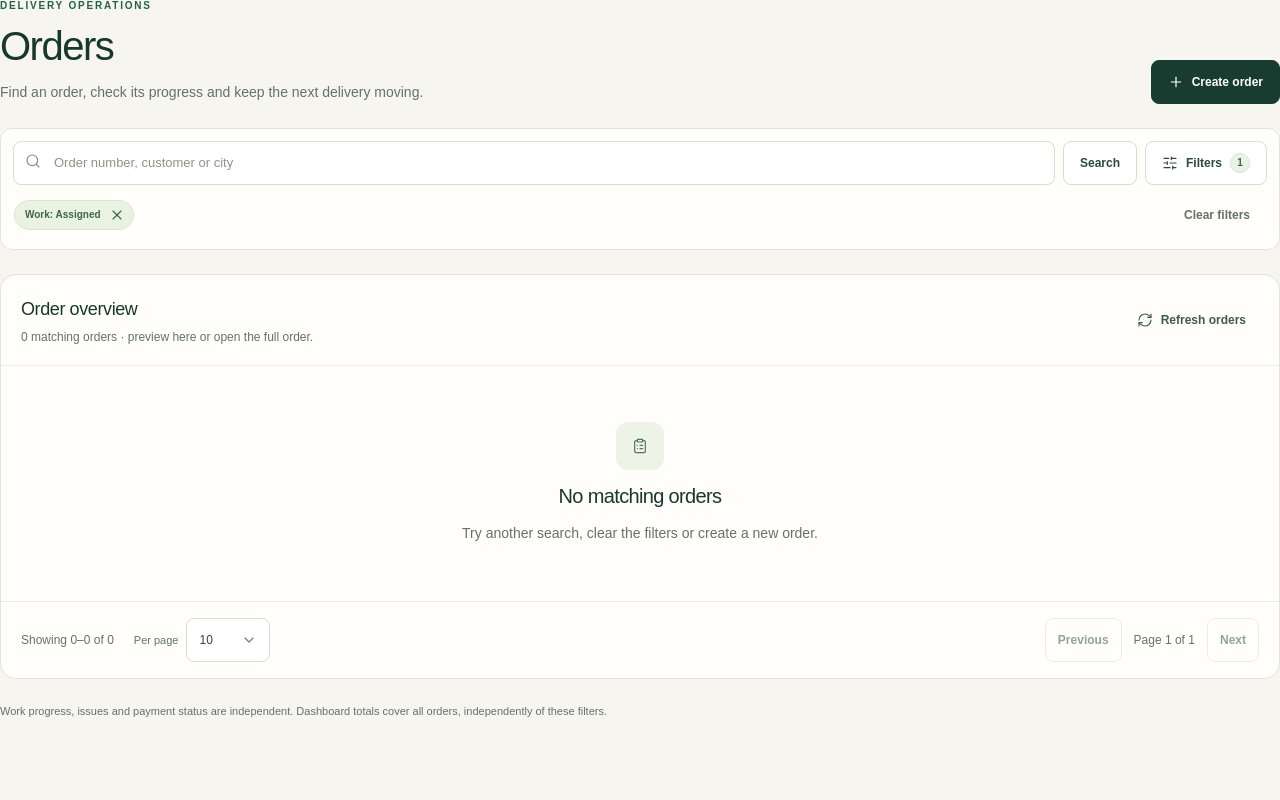
it: M3 order resources › uses the dashboard planning filter on its initial server request
The image size is (1280, 800).
Expected: the heading "No matching orders" is shown, x1=559 y1=482 x2=721 y2=510
Step 1. Click the button "Filters 1" → click(1206, 163), box x1=1145 y1=141 x2=1267 y2=185
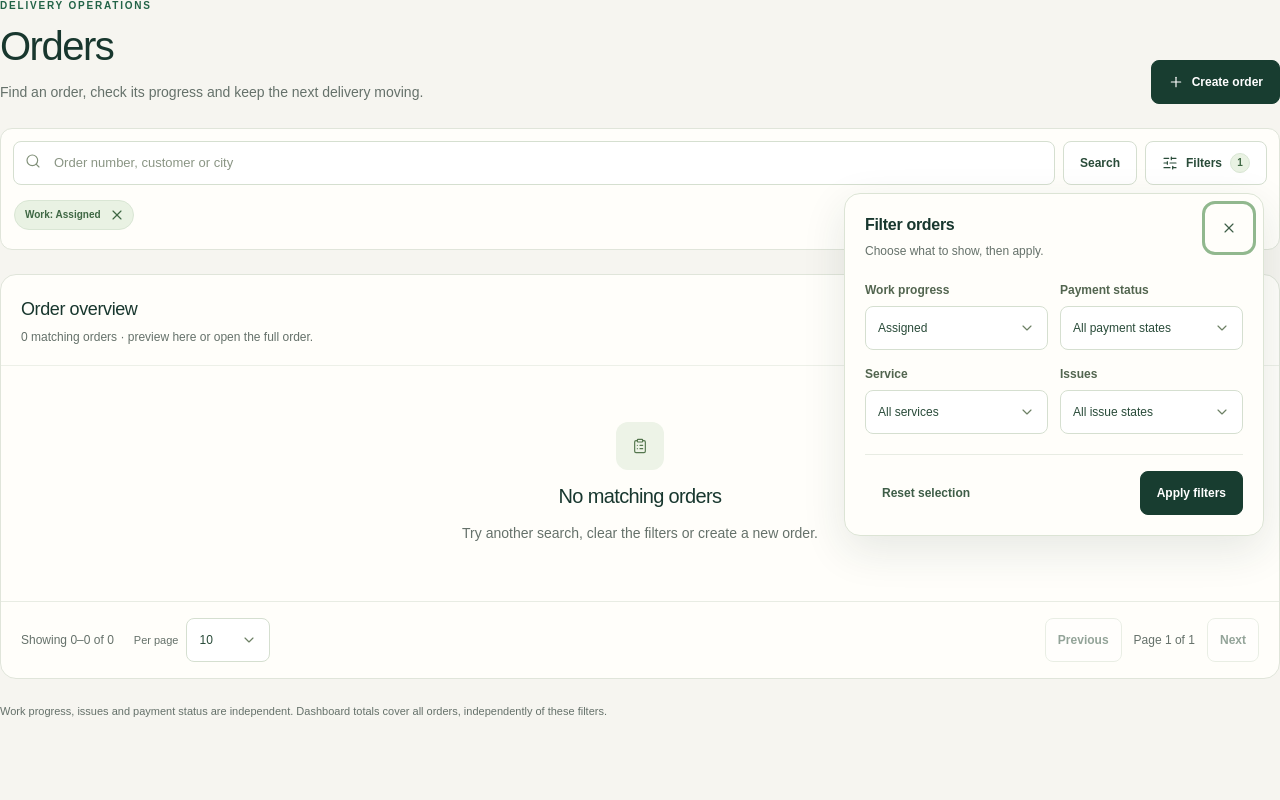
Result: the dropdown named "Work progress" reads "Assigned" at x1=865 y1=306 x2=1048 y2=350
